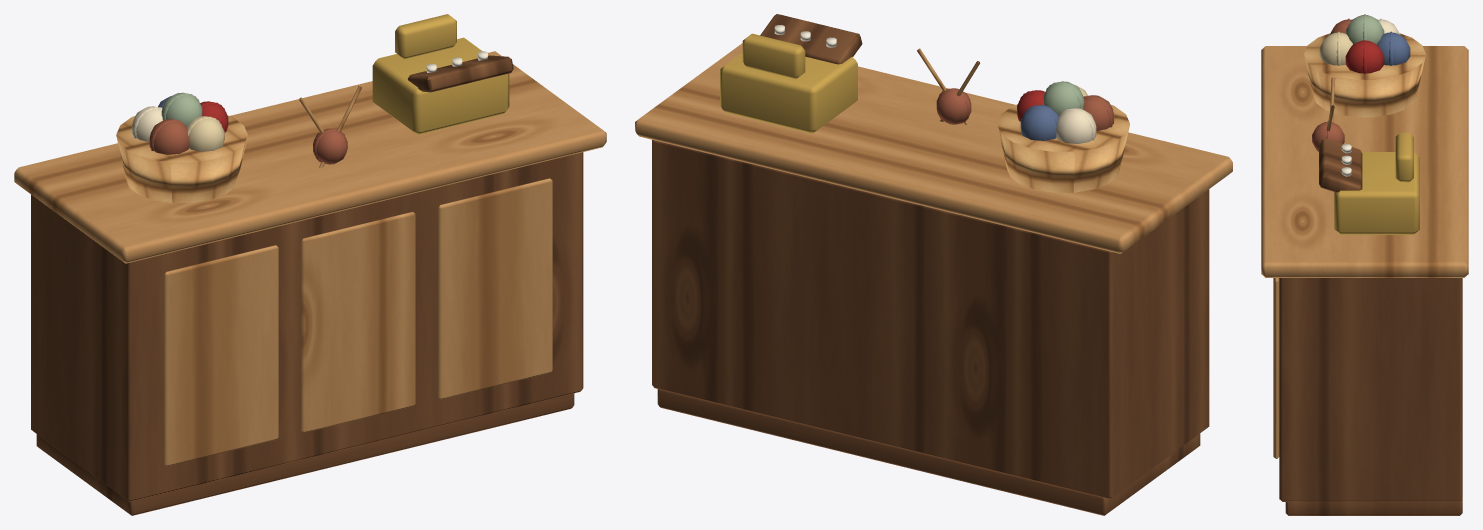
The model's file is shop_counter.glb.
3 renders of one model, left to right at view 1: azimuth 30°, elevation 25°; view 2: azimuth 150°, elevation 25°; view 3: azimuth 270°, elevation 25°, orthographic. The views are drawn at different scales.
Visible parts, largest first — view 1: model; view 2: model; view 3: model.
Part boxes in pixels (<box>): model: <box>14,14,606,515</box>; model: <box>635,14,1232,515</box>; model: <box>1261,14,1468,515</box>.
Bounding box in the file's own units: 1.7 × 1.24 × 0.68.
Materials: 11 (3 with a texture image).
